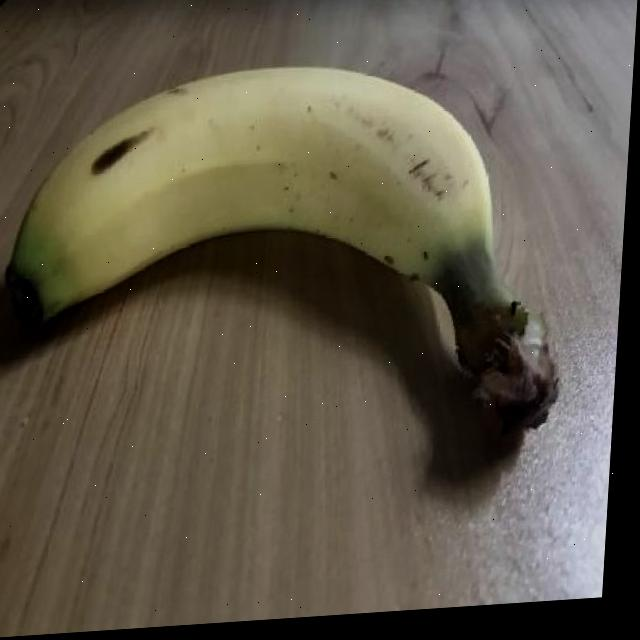banana: (0, 41, 581, 472)
